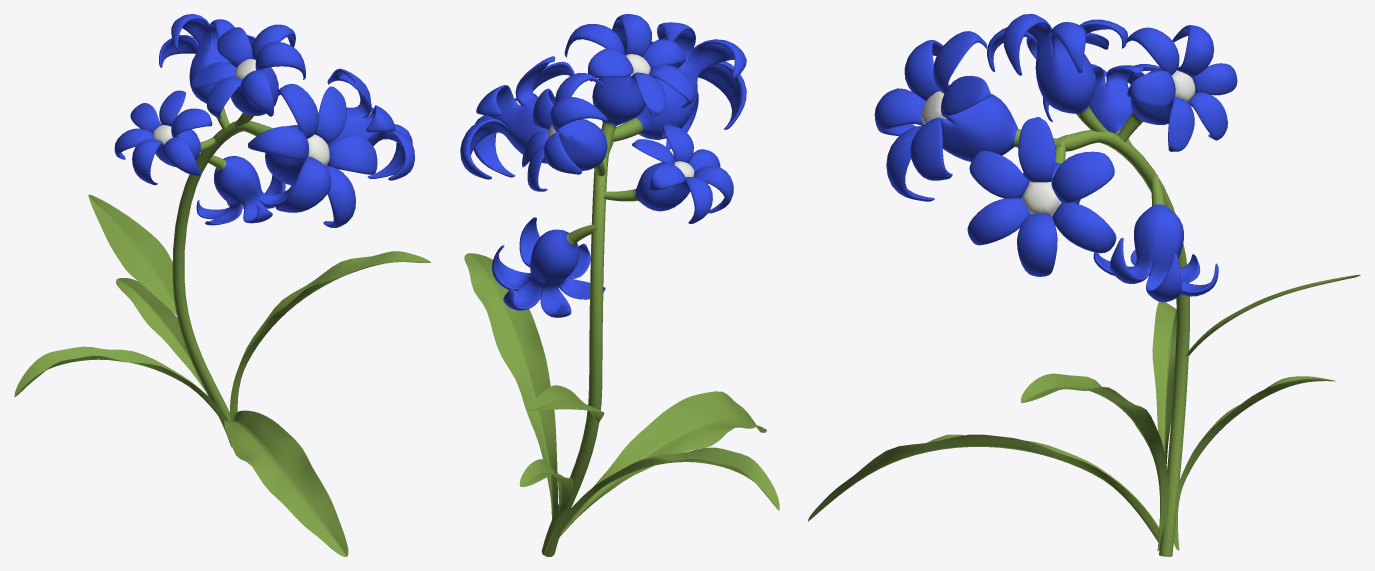
Rendered from object_EN-plants-bluebell_002.glb.
3 views of the same model, side by side, from view 1: azimuth 30°, elevation 25°; view 2: azimuth 150°, elevation 25°; view 3: azimuth 270°, elevation 25° (orthographic). The views are drawn at different scales.
Visible parts, largest first — view 1: GEO-plants-bluebell-petals.027, GEO-leaf.bluebell.017, GEO-plants-bluebell-petals.022, GEO-plants-bluebell-petals.033, GEO-leaf.bluebell.019, GEO-plants-bluebell-stem.3, GEO-plants-bluebell-petals.023, GEO-plants-bluebell-petals.034, GEO-plants-bluebell-petals.024, GEO-leaf.bluebell.016, GEO-leaf.bluebell.018, GEO-leaf.bluebell.015; view 2: GEO-plants-bluebell-petals.022, GEO-leaf.bluebell.016, GEO-plants-bluebell-petals.023, GEO-plants-bluebell-petals.027, GEO-plants-bluebell-petals.024, GEO-leaf.bluebell.017, GEO-plants-bluebell-petals.033, GEO-plants-bluebell-petals.034, GEO-plants-bluebell-stem.3, GEO-leaf.bluebell.018, GEO-leaf.bluebell.015, GEO-leaf.bluebell.019; view 3: GEO-plants-bluebell-petals.034, GEO-plants-bluebell-petals.027, GEO-plants-bluebell-petals.024, GEO-plants-bluebell-petals.022, GEO-plants-bluebell-petals.023, GEO-plants-bluebell-stem.3, GEO-leaf.bluebell.017, GEO-leaf.bluebell.016, GEO-leaf.bluebell.018, GEO-plants-bluebell-petals.033, GEO-leaf.bluebell.015, GEO-leaf.bluebell.019.
Part boxes in pixels (bbox=[...]): GEO-plants-bluebell-petals.027: bbox=[248, 83, 377, 227]; GEO-leaf.bluebell.017: bbox=[224, 410, 348, 556]; GEO-plants-bluebell-petals.022: bbox=[191, 24, 305, 126]; GEO-plants-bluebell-petals.033: bbox=[114, 90, 215, 185]; GEO-leaf.bluebell.019: bbox=[88, 194, 178, 317]; GEO-plants-bluebell-stem.3: bbox=[172, 121, 272, 446]; GEO-plants-bluebell-petals.023: bbox=[196, 155, 292, 225]; GEO-plants-bluebell-petals.034: bbox=[327, 68, 414, 180]; GEO-plants-bluebell-petals.024: bbox=[159, 14, 255, 129]; GEO-leaf.bluebell.016: bbox=[229, 251, 430, 421]; GEO-leaf.bluebell.018: bbox=[14, 346, 229, 423]; GEO-leaf.bluebell.015: bbox=[116, 278, 205, 390]; GEO-plants-bluebell-petals.022: bbox=[564, 14, 695, 159]; GEO-leaf.bluebell.016: bbox=[464, 253, 557, 519]; GEO-plants-bluebell-petals.023: bbox=[492, 217, 605, 317]; GEO-plants-bluebell-petals.027: bbox=[612, 22, 746, 149]; GEO-plants-bluebell-petals.024: bbox=[522, 73, 607, 191]; GEO-leaf.bluebell.017: bbox=[560, 391, 766, 536]; GEO-plants-bluebell-petals.033: bbox=[604, 124, 733, 223]; GEO-plants-bluebell-petals.034: bbox=[460, 56, 574, 179]; GEO-plants-bluebell-stem.3: bbox=[541, 139, 613, 556]; GEO-leaf.bluebell.018: bbox=[562, 447, 779, 529]; GEO-leaf.bluebell.015: bbox=[519, 459, 573, 554]; GEO-leaf.bluebell.019: bbox=[529, 385, 604, 423]; GEO-plants-bluebell-petals.034: bbox=[967, 117, 1116, 276]; GEO-plants-bluebell-petals.027: bbox=[874, 31, 1063, 201]; GEO-plants-bluebell-petals.024: bbox=[1118, 25, 1237, 151]; GEO-plants-bluebell-petals.022: bbox=[987, 14, 1127, 132]; GEO-plants-bluebell-petals.023: bbox=[1093, 174, 1218, 302]; GEO-plants-bluebell-stem.3: bbox=[1057, 130, 1189, 556]; GEO-leaf.bluebell.017: bbox=[808, 434, 1159, 541]; GEO-leaf.bluebell.016: bbox=[1021, 373, 1168, 550]; GEO-leaf.bluebell.018: bbox=[1152, 301, 1176, 463]; GEO-plants-bluebell-petals.033: bbox=[1043, 64, 1160, 145]; GEO-leaf.bluebell.015: bbox=[1173, 376, 1335, 550]; GEO-leaf.bluebell.019: bbox=[1186, 274, 1360, 356].
Bounding box in the file's own units: 0.2092 × 0.2572 × 0.2424.
